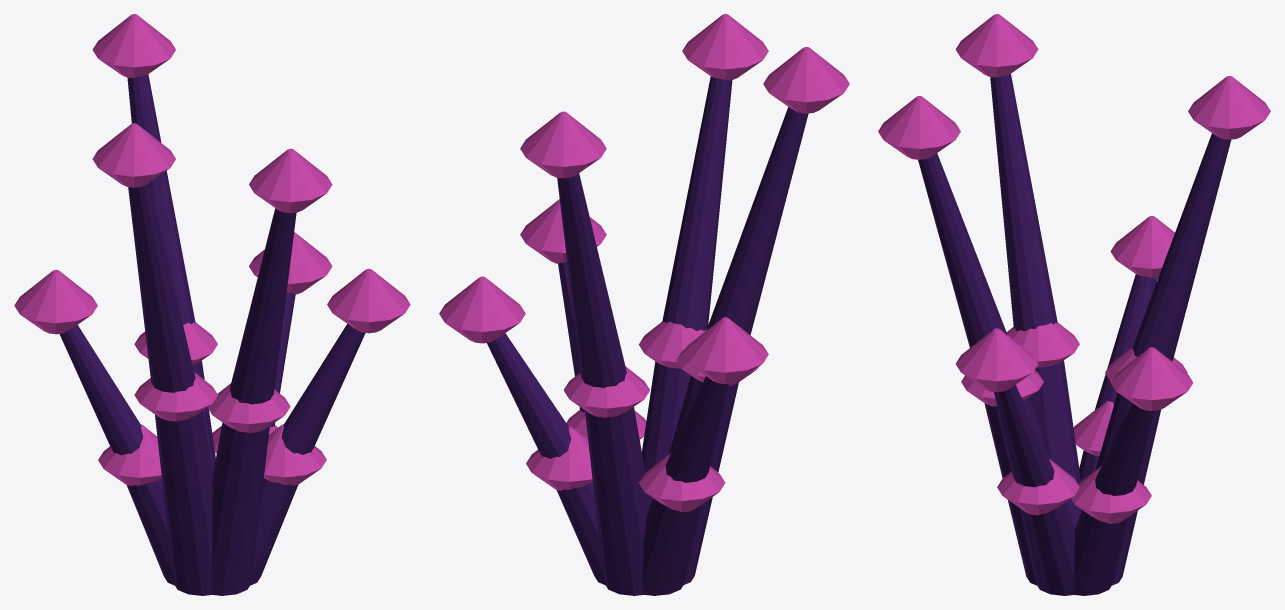
The model's file is coral_morado.obj.
3 renders of one model, left to right at view 1: azimuth 30°, elevation 25°; view 2: azimuth 150°, elevation 25°; view 3: azimuth 270°, elevation 25°, orthographic. The views are drawn at different scales.
Size of the model in its own units: 0.635 by 1.01 by 0.71.
